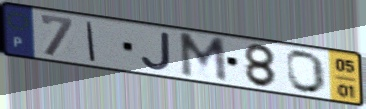7: (38, 12, 76, 59)
8: (242, 42, 279, 90)
I: (84, 20, 98, 64)
J: (140, 30, 174, 72)
M: (177, 31, 231, 85)
O: (285, 49, 329, 95)
